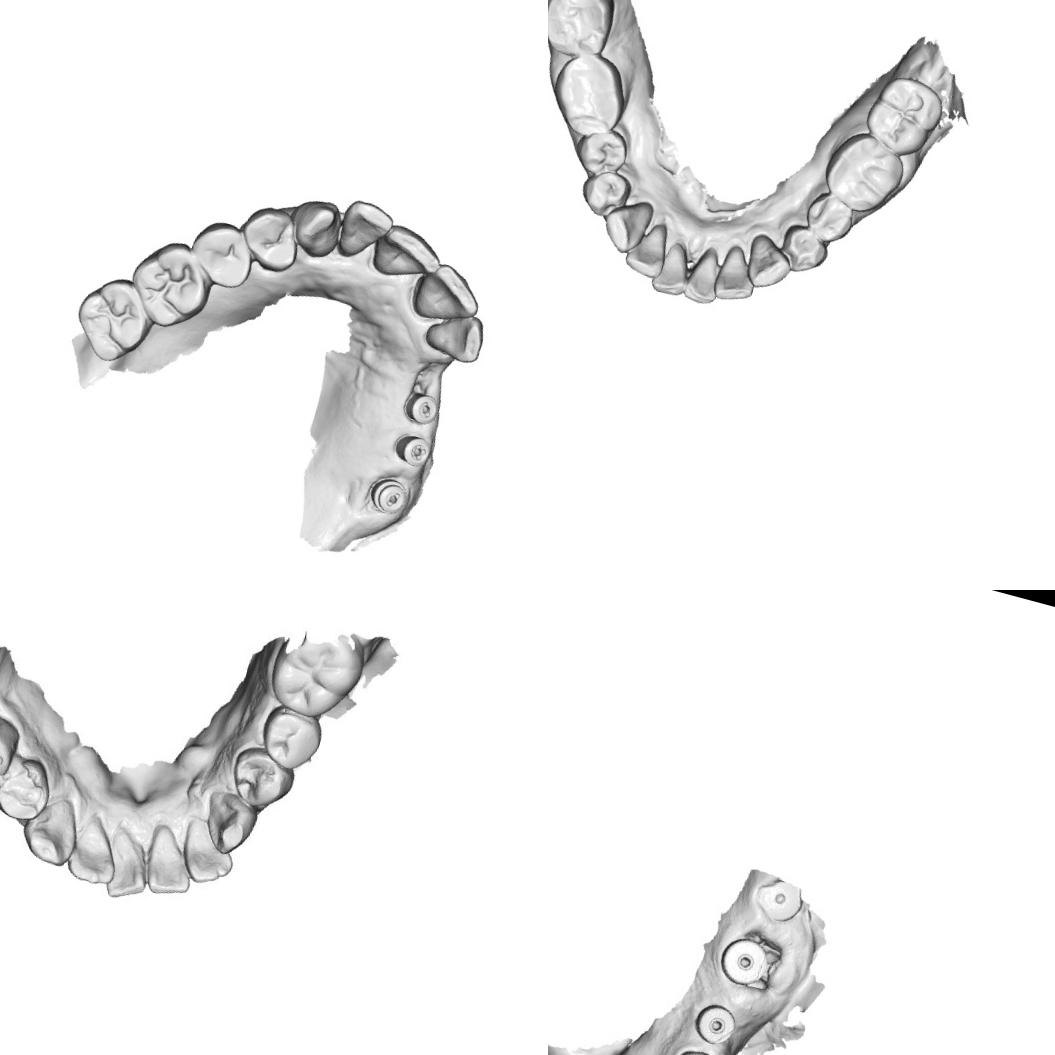canine: (194, 783, 262, 858), (280, 192, 348, 262), (20, 793, 82, 866), (596, 192, 656, 258), (740, 230, 797, 296)
implant: (746, 870, 809, 929), (714, 932, 773, 992), (688, 998, 742, 1050)
implant_minus: (364, 471, 412, 520), (398, 388, 442, 428)
implant_plus: (388, 429, 436, 473)
incisor: (408, 256, 488, 331), (172, 816, 243, 893), (368, 219, 446, 288), (97, 824, 157, 909), (138, 825, 202, 902), (60, 810, 122, 888), (333, 195, 398, 265), (418, 302, 488, 366), (709, 241, 763, 307), (620, 216, 674, 280), (680, 241, 728, 307), (648, 236, 695, 299)
molar: (120, 231, 220, 337), (260, 628, 367, 726), (65, 267, 162, 371), (816, 123, 911, 220), (858, 68, 950, 164), (548, 44, 636, 144), (548, 0, 621, 64)
premolar: (253, 699, 336, 780), (182, 215, 260, 293), (232, 200, 307, 276), (225, 742, 300, 813), (0, 747, 58, 832), (570, 120, 632, 181), (774, 220, 834, 279), (575, 162, 634, 222), (800, 188, 858, 247), (0, 717, 18, 793)
